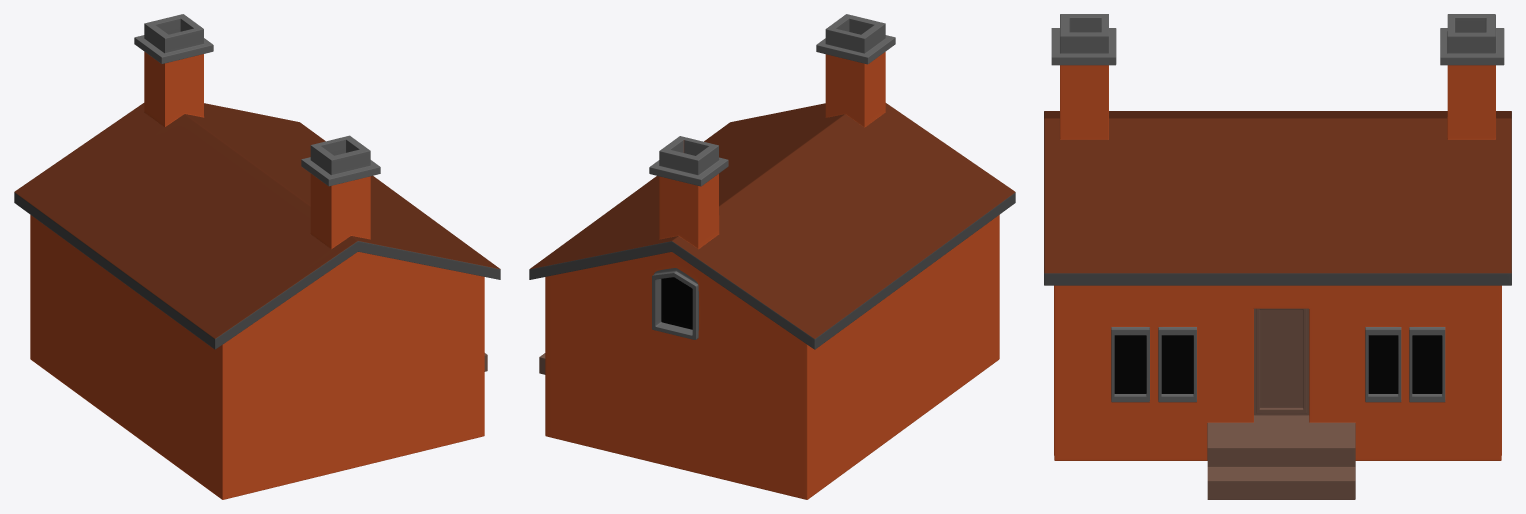
Rendered from cabinTest.fbx.
3 views of the same model, side by side, from view 1: azimuth 30°, elevation 25°; view 2: azimuth 150°, elevation 25°; view 3: azimuth 270°, elevation 25° (orthographic). The views are drawn at different scales.
Parts seen in each view (by area): view 1: pCube3; view 2: pCube3; view 3: pCube3.
Part boxes in pixels (x1,y1,x2,y2): pCube3: [14, 14, 500, 499]; pCube3: [529, 14, 1015, 499]; pCube3: [1044, 14, 1511, 499].
Bounding box in the file's own units: 9.07 × 7.86 × 9.22.
1 material, 1 textured.
